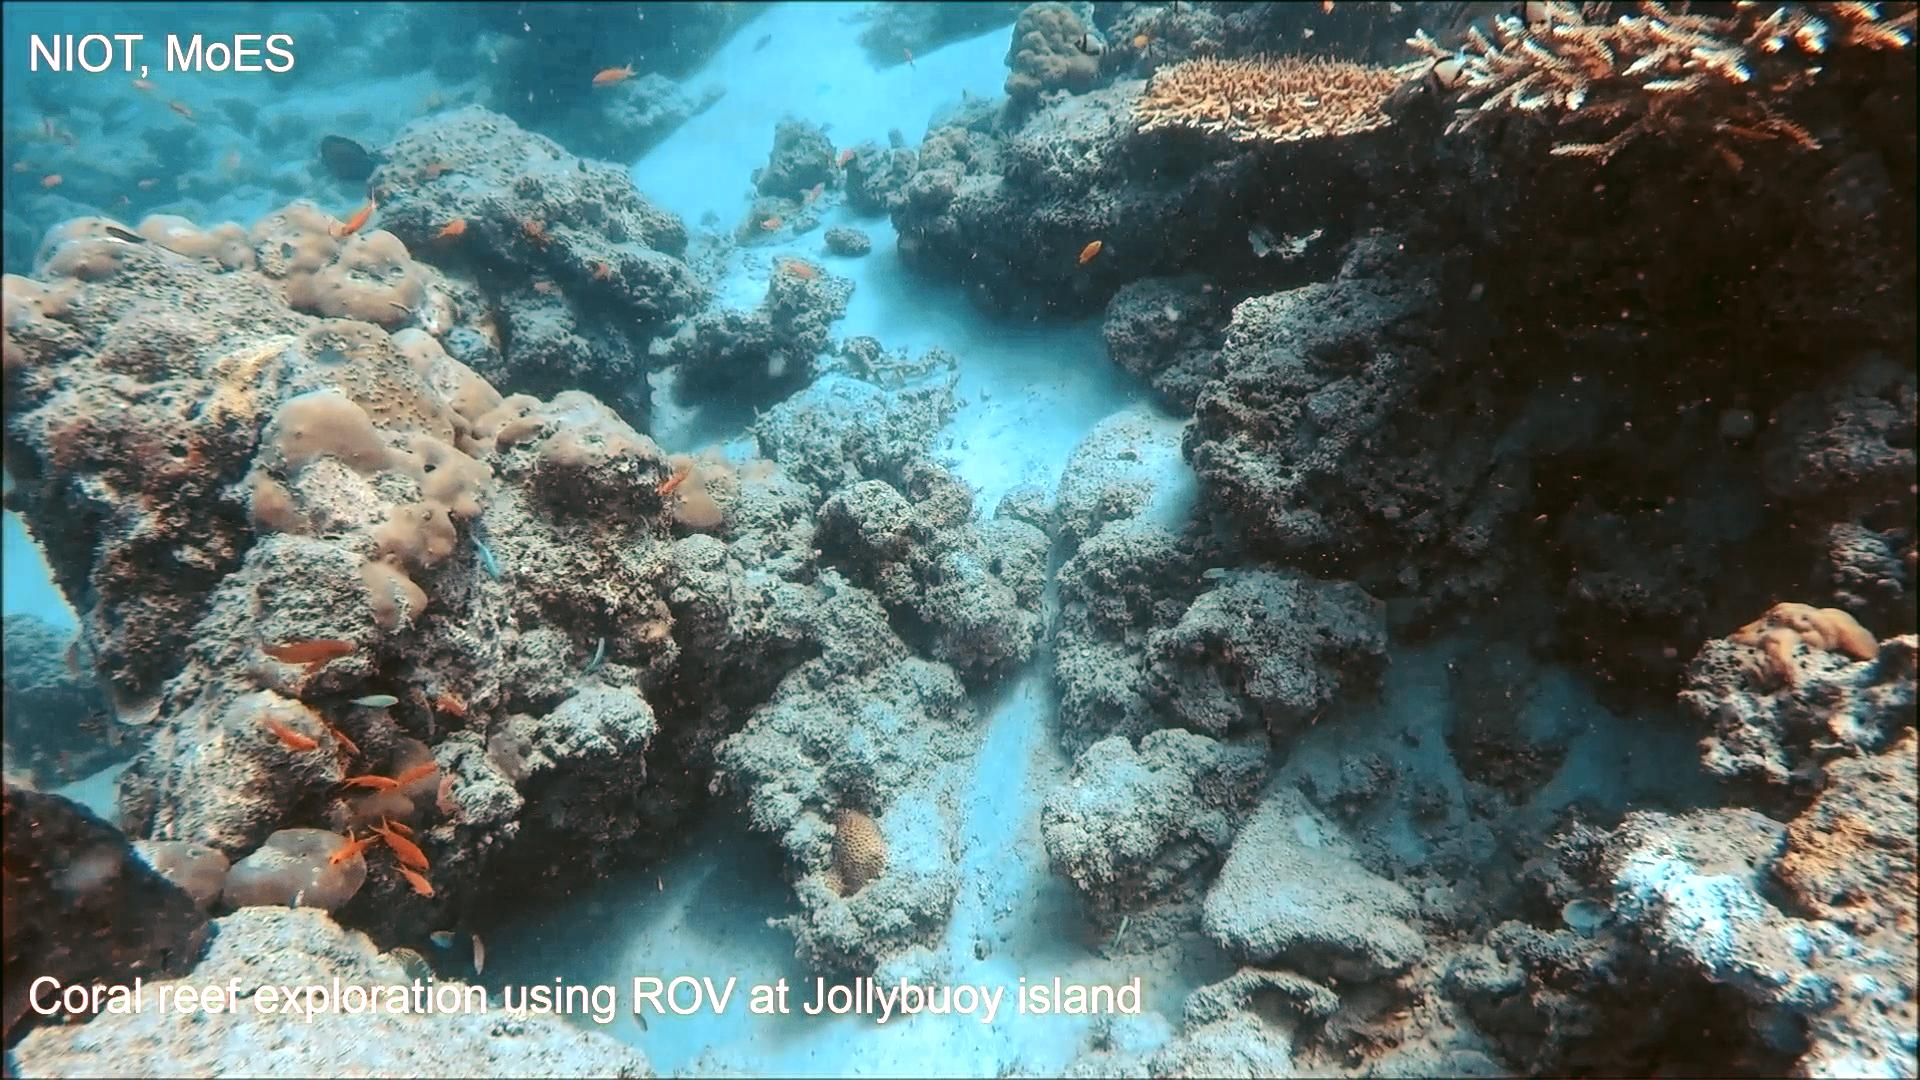Porites-Porites pukoensis: (237, 193, 554, 654)
